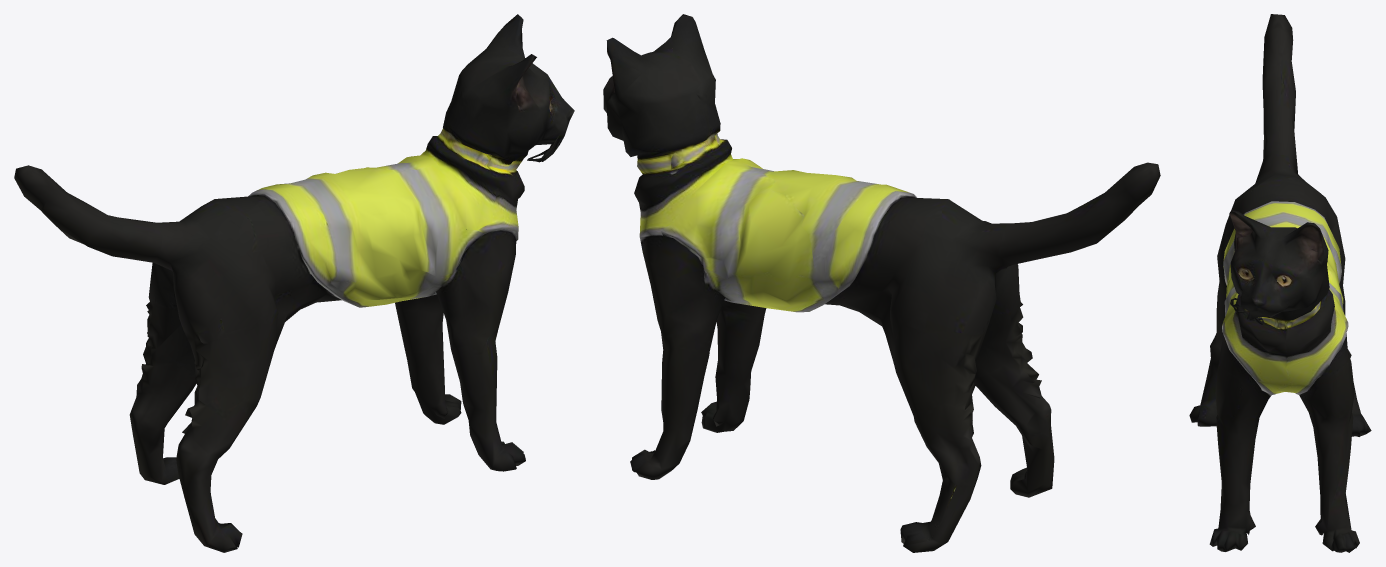
File: ROLFCAT-lo.glb
3 views of the same model, side by side, from view 1: azimuth 30°, elevation 25°; view 2: azimuth 150°, elevation 25°; view 3: azimuth 270°, elevation 25° (orthographic). The views are drawn at different scales.
Parts seen in each view (by area): view 1: tripo_node_1b819205-4764-43b5-a8dd-c2b60633b822; view 2: tripo_node_1b819205-4764-43b5-a8dd-c2b60633b822; view 3: tripo_node_1b819205-4764-43b5-a8dd-c2b60633b822.
Part boxes in pixels (x1,y1,x2,y2): tripo_node_1b819205-4764-43b5-a8dd-c2b60633b822: (14,14,574,552); tripo_node_1b819205-4764-43b5-a8dd-c2b60633b822: (603,14,1160,552); tripo_node_1b819205-4764-43b5-a8dd-c2b60633b822: (1189,14,1371,552).
Bounding box in the file's own units: 1.42 × 0.9963 × 0.4671.
Materials: 1 (1 with a texture image).
